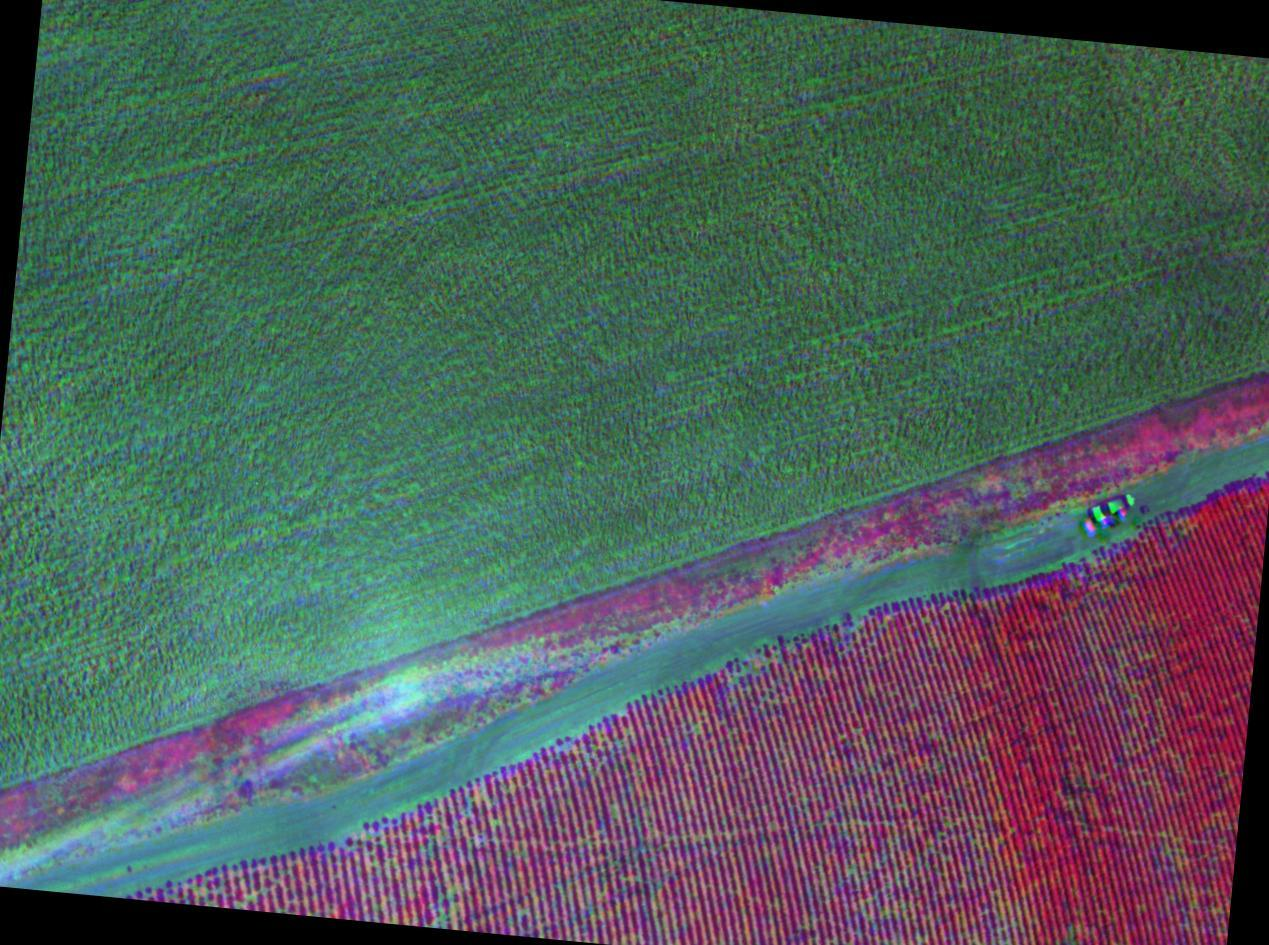dc: (838, 811, 906, 886), (223, 861, 290, 929), (567, 711, 632, 774), (393, 808, 451, 869), (471, 778, 526, 837), (1158, 823, 1206, 888), (732, 642, 796, 688)
